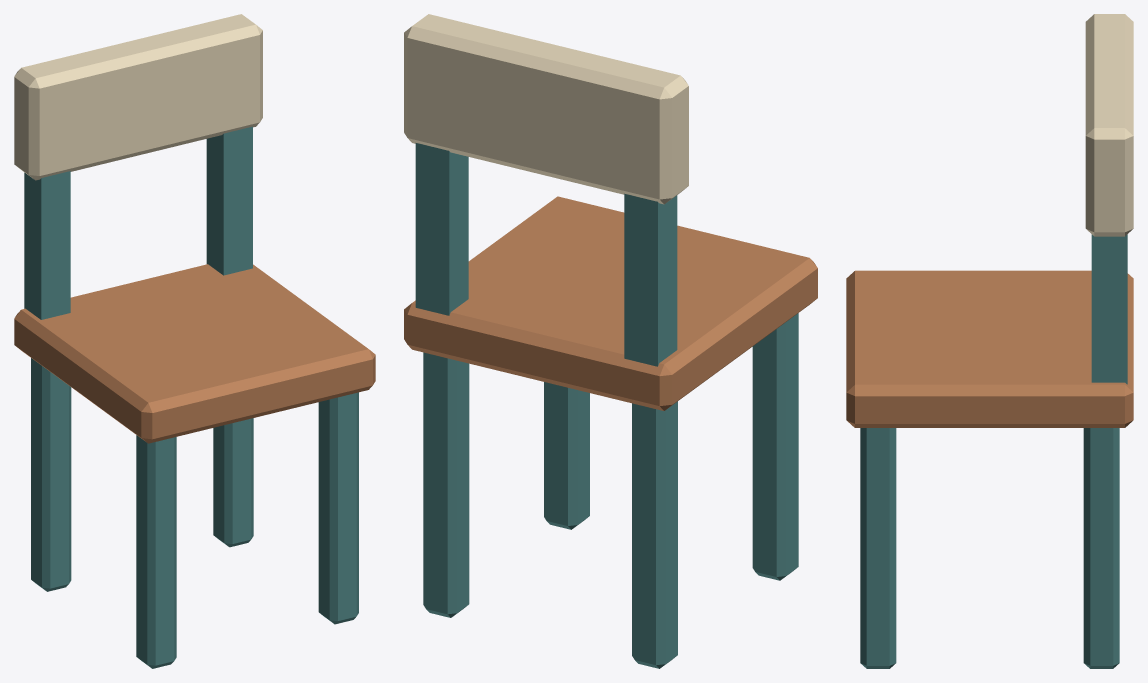
The model's file is hsc3_cafe_chair.glb.
3 views of the same model, side by side, from view 1: azimuth 30°, elevation 25°; view 2: azimuth 150°, elevation 25°; view 3: azimuth 270°, elevation 25° (orthographic). The views are drawn at different scales.
Parts seen in each view (by area): view 1: hsc3_cafe_chair__hsc3-deep-teal, hsc3_cafe_chair__hsc3-roasted-copper, hsc3_cafe_chair__hsc3-cream-enamel; view 2: hsc3_cafe_chair__hsc3-deep-teal, hsc3_cafe_chair__hsc3-roasted-copper, hsc3_cafe_chair__hsc3-cream-enamel; view 3: hsc3_cafe_chair__hsc3-roasted-copper, hsc3_cafe_chair__hsc3-deep-teal, hsc3_cafe_chair__hsc3-cream-enamel.
Boxes of the visible parts, x1,y1,x2,y2 form: hsc3_cafe_chair__hsc3-deep-teal: [24, 126, 358, 668]; hsc3_cafe_chair__hsc3-roasted-copper: [14, 264, 375, 443]; hsc3_cafe_chair__hsc3-cream-enamel: [14, 14, 262, 180]; hsc3_cafe_chair__hsc3-deep-teal: [415, 143, 798, 668]; hsc3_cafe_chair__hsc3-roasted-copper: [404, 196, 817, 410]; hsc3_cafe_chair__hsc3-cream-enamel: [404, 14, 688, 204]; hsc3_cafe_chair__hsc3-roasted-copper: [846, 270, 1133, 427]; hsc3_cafe_chair__hsc3-deep-teal: [860, 234, 1127, 668]; hsc3_cafe_chair__hsc3-cream-enamel: [1085, 14, 1133, 236].
Size of the model in its own units: 0.72 by 1.51 by 0.72.
